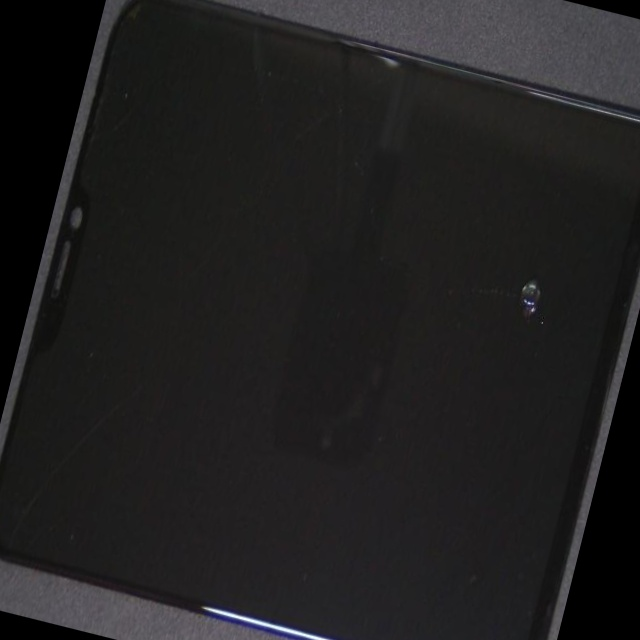oil: (289, 71, 640, 419)
